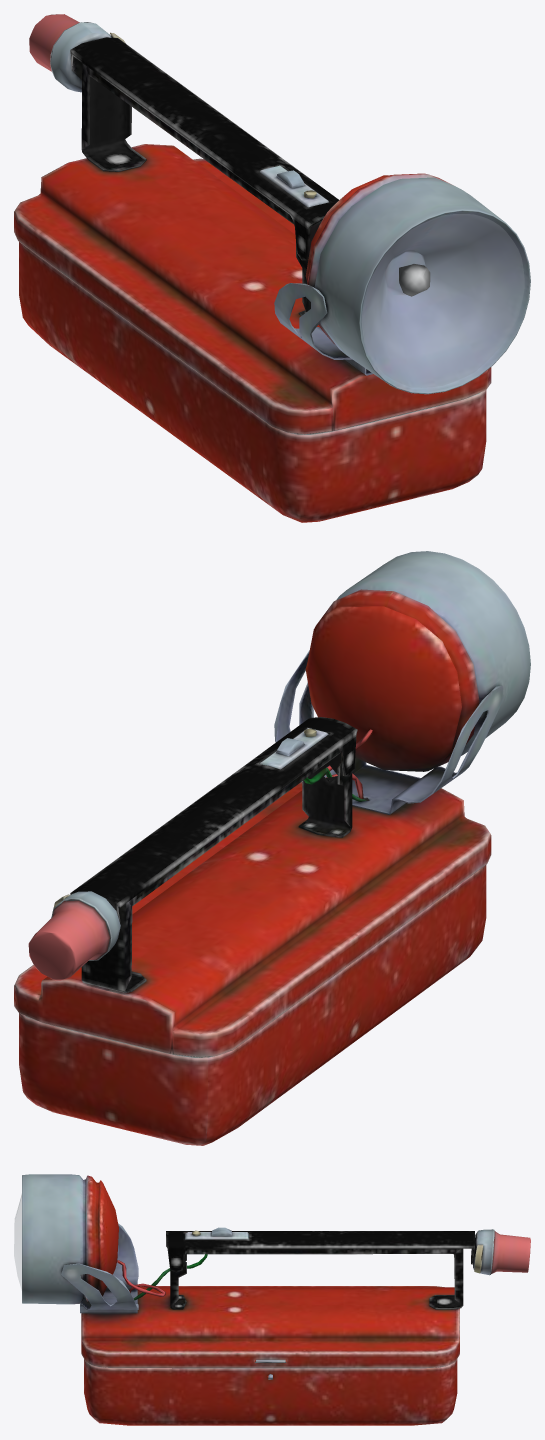
Rendered from vintage_flashlight.glb.
The picture shows the model from 3 angles, top to bottom: view 1: azimuth 30°, elevation 25°; view 2: azimuth 150°, elevation 25°; view 3: azimuth 270°, elevation 25°; orthographic projection. The views are drawn at different scales.
Parts seen in each view (by area): view 1: vintage_flashlight, vintage_flashlight_glass; view 2: vintage_flashlight; view 3: vintage_flashlight, vintage_flashlight_glass.
Part boxes in pixels (left/top/right/bottom): vintage_flashlight: left=14, top=14, right=530, bottom=522; vintage_flashlight_glass: left=362, top=214, right=523, bottom=387; vintage_flashlight: left=14, top=551, right=530, bottom=1145; vintage_flashlight: left=22, top=1174, right=530, bottom=1425; vintage_flashlight_glass: left=14, top=1194, right=21, bottom=1289.
Bounding box in the file's own units: 0.0959 × 0.1443 × 0.3049.
Materials: 2 (1 with a texture image).
